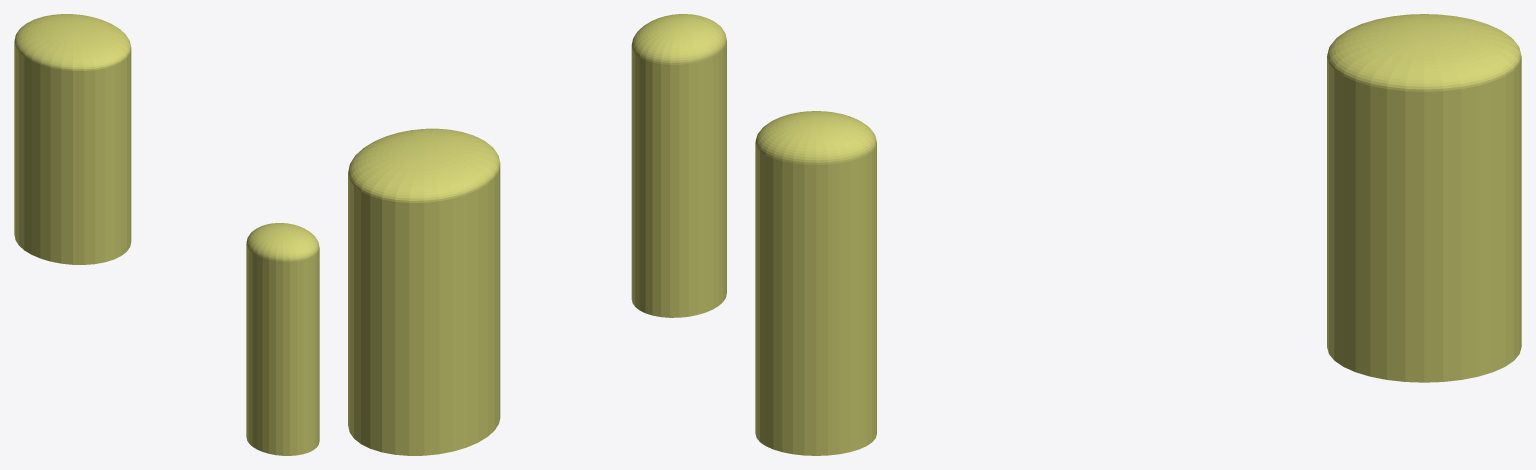
File: large-quarry-fittings.dae
The picture shows the model from 3 angles, left to right: view 1: azimuth 30°, elevation 25°; view 2: azimuth 150°, elevation 25°; view 3: azimuth 270°, elevation 25°; orthographic projection. The views are drawn at different scales.
Visible parts, largest first — view 1: Sphere_004, Sphere_003; view 2: Sphere_004, Sphere_003; view 3: Sphere_004, Sphere_003.
Part boxes in pixels (left/top/right/bottom): Sphere_004: left=14, top=14, right=131, bottom=264; Sphere_003: left=246, top=223, right=319, bottom=455; Sphere_004: left=348, top=128, right=500, bottom=455; Sphere_003: left=631, top=14, right=726, bottom=317; Sphere_004: left=1327, top=14, right=1521, bottom=382; Sphere_003: left=755, top=111, right=876, bottom=455.
Size of the model in its own units: 0.2242 by 1.02 by 0.5809.
